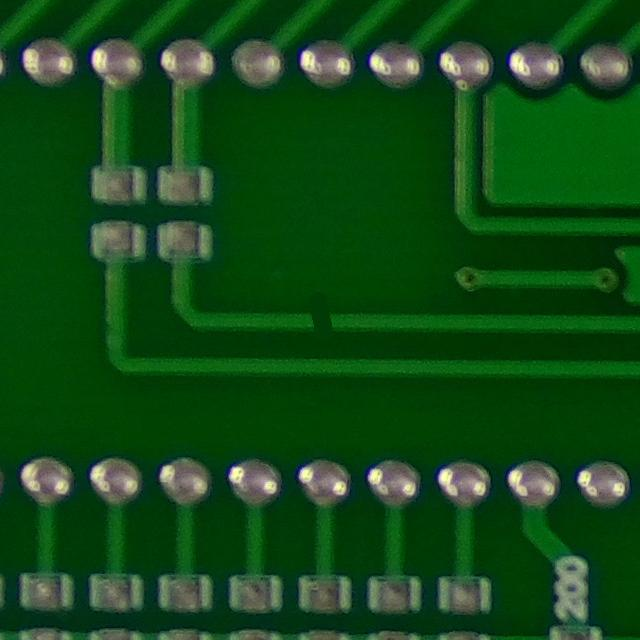open_circuit: (293, 298, 347, 343)
